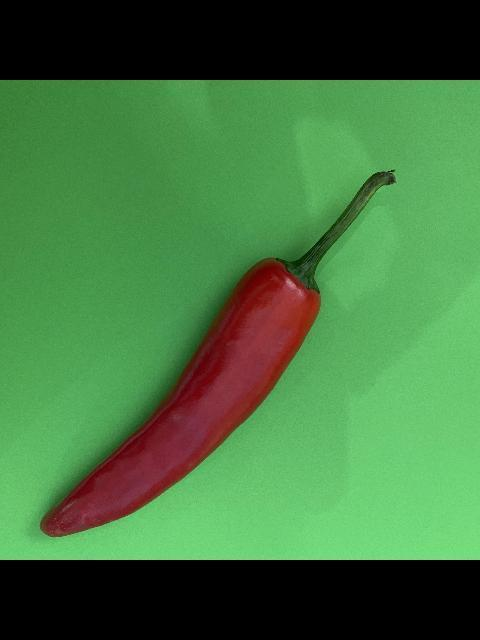chilli: (37, 168, 397, 540)
